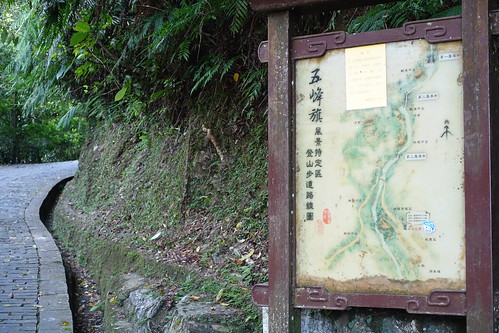wufengciMap: (301, 65, 465, 201)
